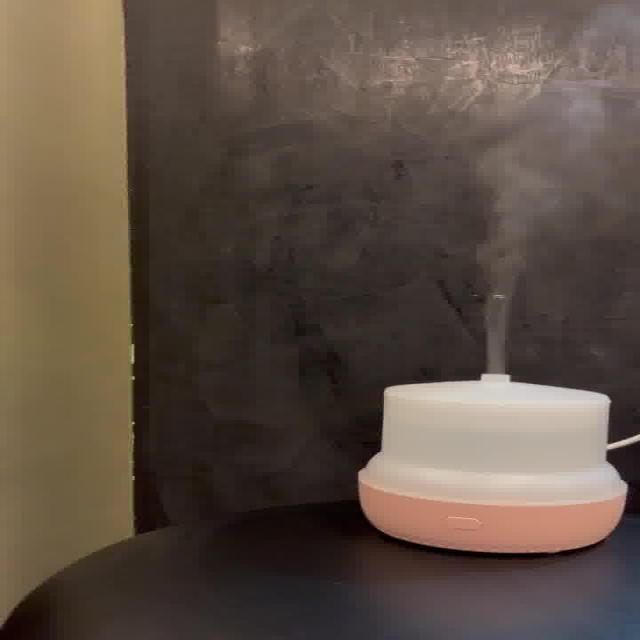fire: (477, 106, 632, 369)
